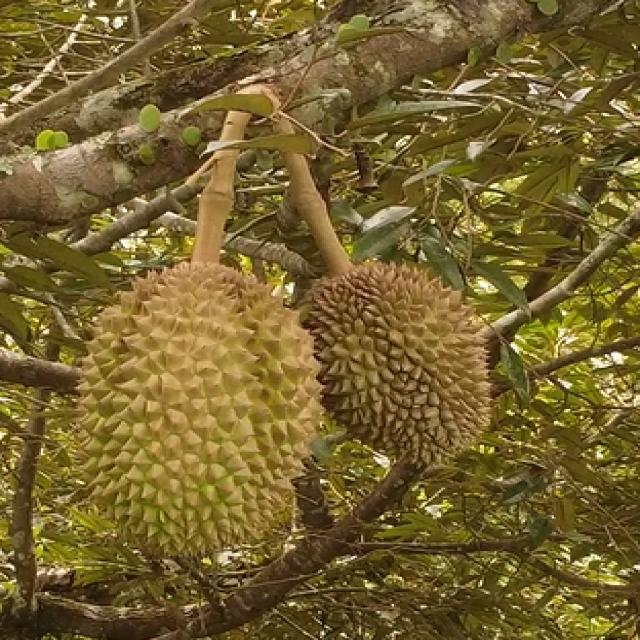mature: (75, 263, 316, 550), (292, 258, 489, 467)
